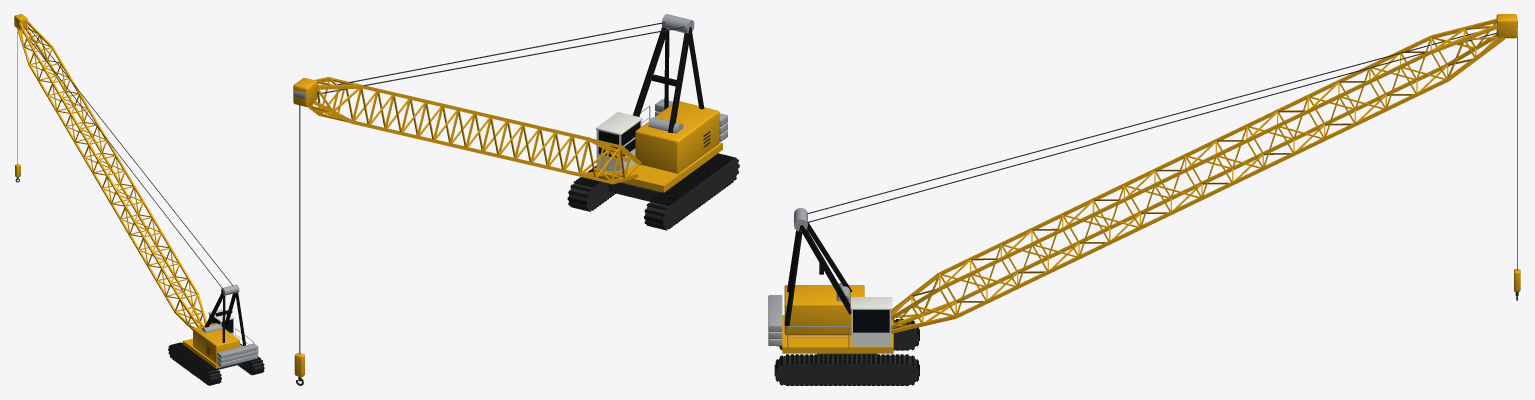
Rendered from plant.lifting.crawler_crane_low.glb.
3 views of the same model, side by side, from view 1: azimuth 30°, elevation 25°; view 2: azimuth 150°, elevation 25°; view 3: azimuth 270°, elevation 25° (orthographic). The views are drawn at different scales.
Visible parts, largest first — view 1: boom__plant_yellow, upper__plant_yellow, upper__steel_galvanised, tracks__steel_dark, boom__steel_dark, tracks__plastic_black, upper__plastic_black; view 2: boom__plant_yellow, upper__plant_yellow, tracks__steel_dark, upper__plastic_black, tracks__plastic_black, boom__steel_dark, upper__steel_galvanised, upper__paint_white, upper__glass_dark, hook__steel_dark; view 3: boom__plant_yellow, upper__plant_yellow, tracks__steel_dark, boom__steel_dark, upper__plastic_black, tracks__plastic_black, upper__steel_galvanised, upper__paint_white, upper__glass_dark.
Boxes of the visible parts, x1,y1,x2,y2 form: boom__plant_yellow: (14,14,206,330); upper__plant_yellow: (183,323,242,368); upper__steel_galvanised: (202,284,258,367); tracks__steel_dark: (168,345,263,385); boom__steel_dark: (20,26,232,287); tracks__plastic_black: (168,342,264,385); upper__plastic_black: (204,291,245,345); boom__plant_yellow: (293,77,641,184); upper__plant_yellow: (595,101,722,192); tracks__steel_dark: (568,156,738,229); upper__plastic_black: (633,27,704,133); tracks__plastic_black: (567,153,739,230); boom__steel_dark: (317,22,684,94); upper__steel_galvanised: (641,14,727,141); upper__paint_white: (596,112,642,171); upper__glass_dark: (598,121,640,157); hook__steel_dark: (296,97,303,385); boom__plant_yellow: (891,14,1517,333); upper__plant_yellow: (782,285,893,353); tracks__steel_dark: (775,320,918,385); boom__steel_dark: (807,32,1497,222); upper__plastic_black: (784,222,852,326); tracks__plastic_black: (774,319,919,385); upper__steel_galvanised: (768,208,850,347); upper__paint_white: (850,297,892,346); upper__glass_dark: (853,310,889,332).
Size of the model in its own units: 4.5 by 16.53 by 32.44.
